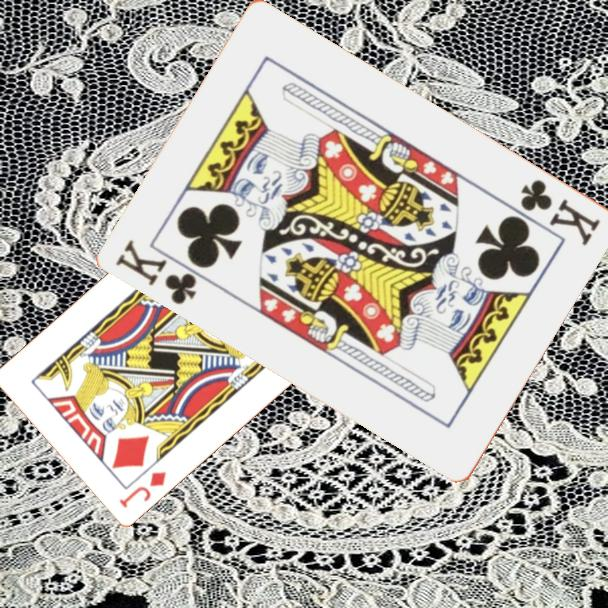c13: (112, 235, 201, 308), (517, 175, 604, 249)
d11: (115, 467, 169, 510)
